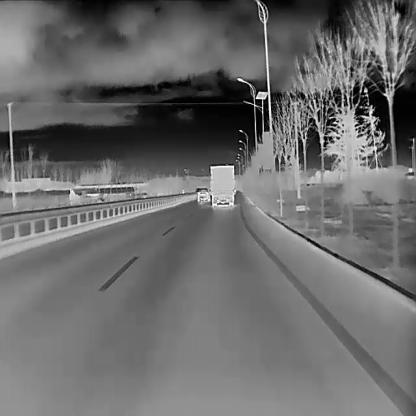car: (210, 164, 236, 207), (196, 187, 210, 201)
